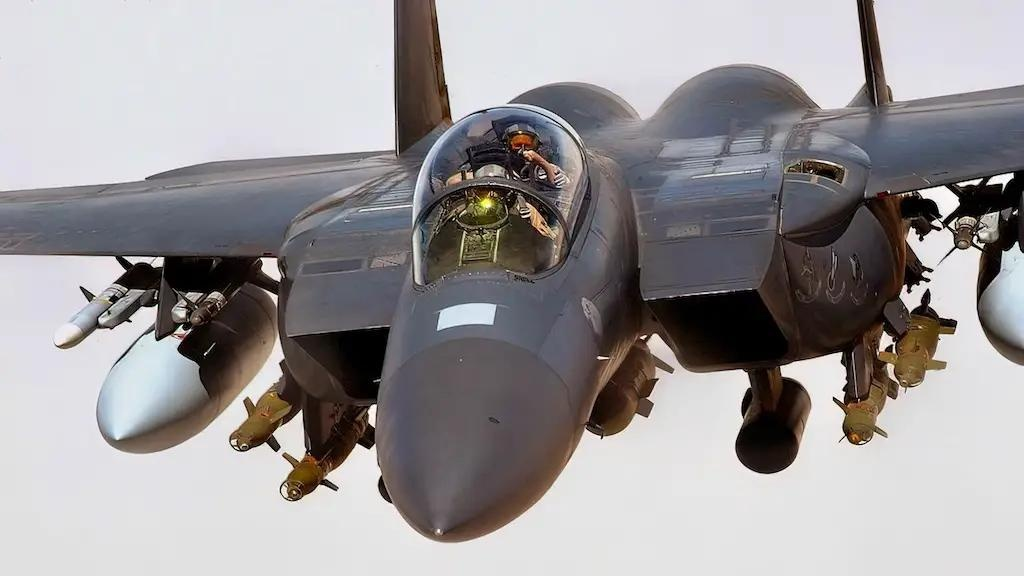aircraft: (8, 2, 1017, 559)
